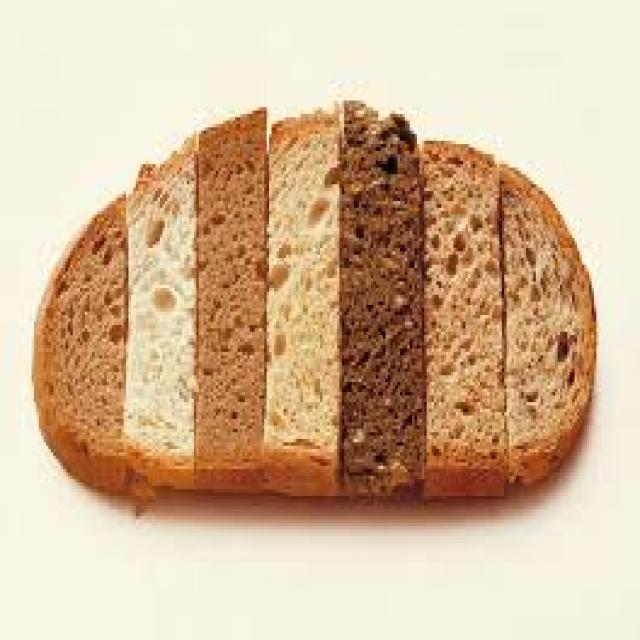organic waste: (31, 94, 594, 512), (337, 97, 422, 496), (417, 134, 507, 496), (262, 100, 344, 496), (499, 158, 592, 482), (194, 101, 264, 489), (121, 131, 194, 496), (32, 188, 121, 486)
